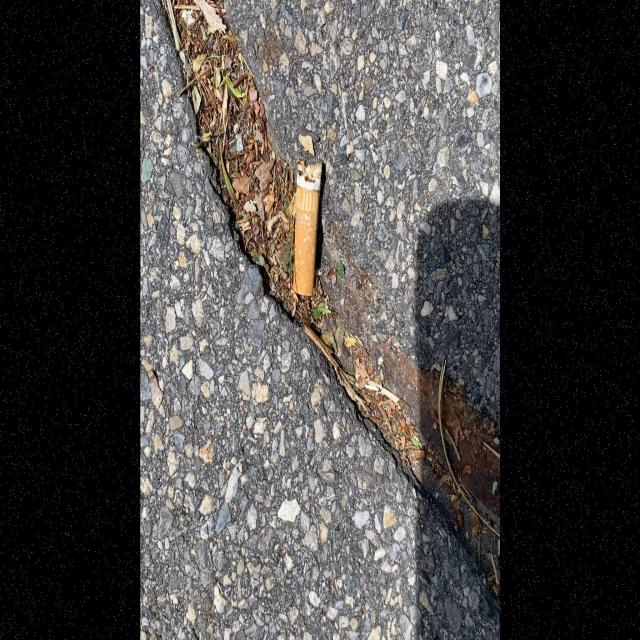other waste: (290, 158, 324, 296)
